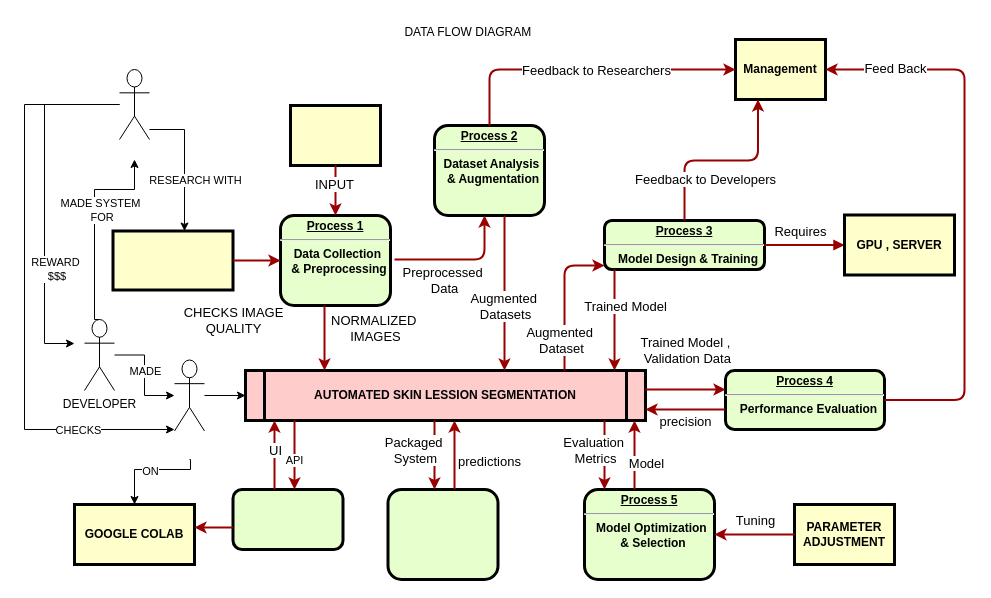
Image size: 991x598. Some labels were removed from this diagram. Each missing label, with the centre of its shape:
"DATASET" belongs at [335,135].
"DETERMALOGISTS" belongs at [172,260].
"Process 6 Integration" belongs at [287,519].
"Process 7 Deployment & Testing" belongs at [442,534].
"RESEARCHER" belongs at [134,104].
"SYSTEM" belongs at [189,395].
